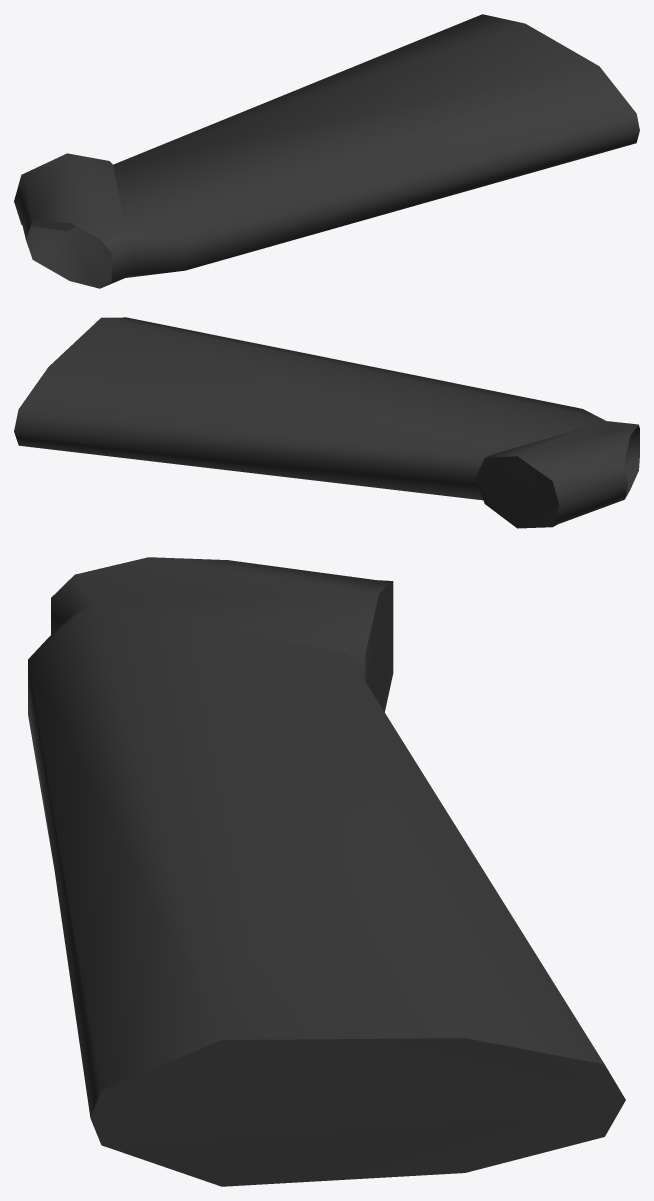
Rendered from Fiberstock.fbx.
3 renders of one model, top to bottom at view 1: azimuth 30°, elevation 25°; view 2: azimuth 150°, elevation 25°; view 3: azimuth 270°, elevation 25°, orthographic. The views are drawn at different scales.
Visible parts, largest first — view 1: node_2ecd0efd_dc69_4d8e_a6c4_2e93003936f6_mesh0; view 2: node_2ecd0efd_dc69_4d8e_a6c4_2e93003936f6_mesh0; view 3: node_2ecd0efd_dc69_4d8e_a6c4_2e93003936f6_mesh0.
Boxes of the visible parts, x1,y1,x2,y2 form: node_2ecd0efd_dc69_4d8e_a6c4_2e93003936f6_mesh0: (14,14,639,288); node_2ecd0efd_dc69_4d8e_a6c4_2e93003936f6_mesh0: (14,317,639,528); node_2ecd0efd_dc69_4d8e_a6c4_2e93003936f6_mesh0: (28,557,625,1186).
Bounding box in the file's own units: 0.1831 × 0.0245 × 0.0887.
